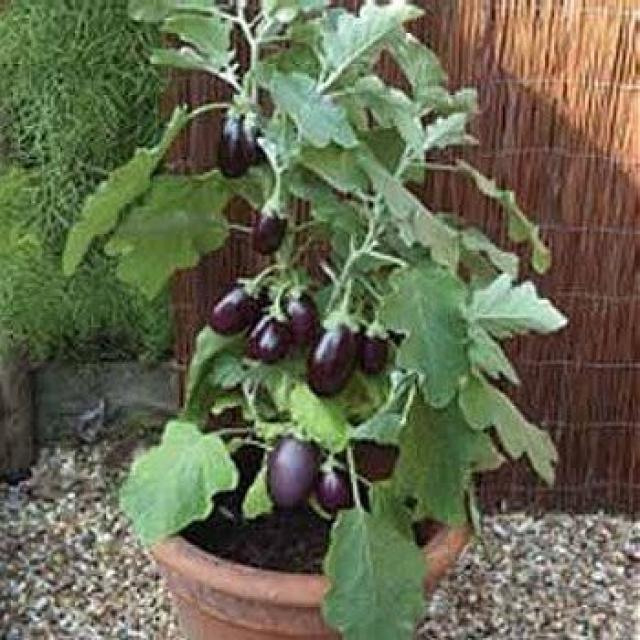brinjal: (66, 0, 567, 640)
